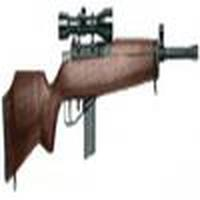gun: (4, 38, 199, 160)
